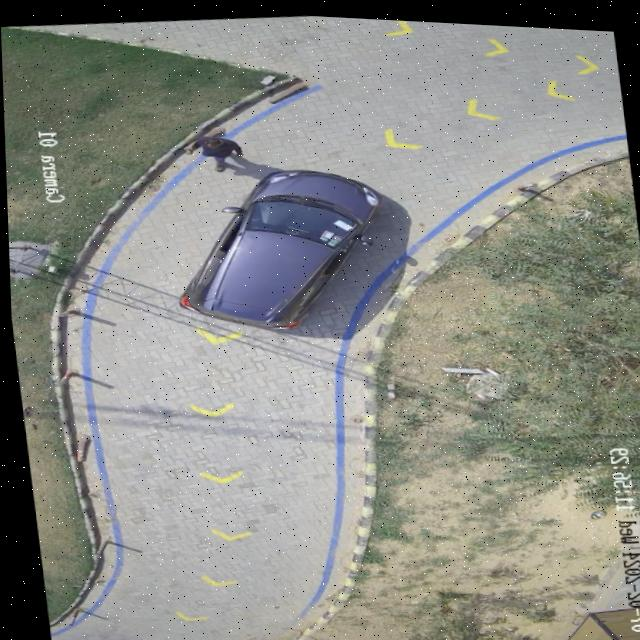car: (172, 165, 378, 327)
